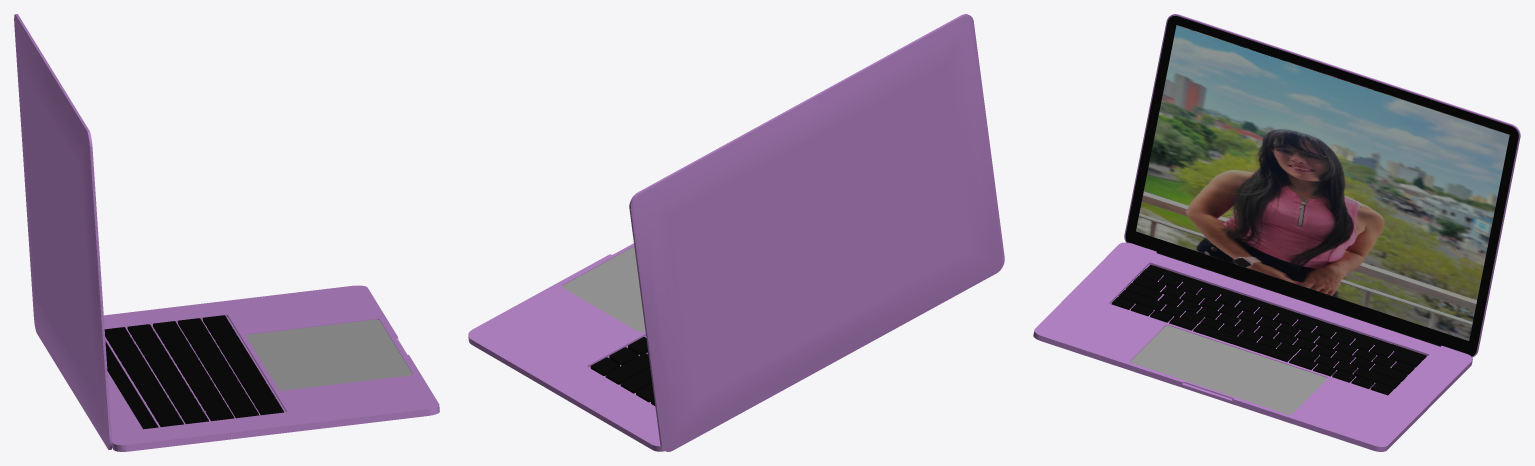
Rendered from mac-draco.glb.
3 views of the same model, side by side, from view 1: azimuth 30°, elevation 25°; view 2: azimuth 150°, elevation 25°; view 3: azimuth 270°, elevation 25° (orthographic). The views are drawn at different scales.
Visible parts, largest first — view 1: base, screen, keyboard, touchbar; view 2: screen, base, keyboard; view 3: screen, base, keyboard, touchbar.
Part boxes in pixels (x1=…): base: x1=103, y1=285, x2=439, y2=451; screen: x1=14, y1=14, x2=112, y2=449; keyboard: x1=104, y1=315, x2=283, y2=426; touchbar: x1=105, y1=341, x2=158, y2=429; screen: x1=629, y1=14, x2=1004, y2=451; base: x1=468, y1=243, x2=664, y2=451; keyboard: x1=590, y1=337, x2=655, y2=405; screen: x1=1124, y1=14, x2=1520, y2=357; base: x1=1033, y1=242, x2=1472, y2=451; keyboard: x1=1111, y1=268, x2=1421, y2=395; touchbar: x1=1147, y1=264, x2=1426, y2=360.
Bounding box in the file's own units: 8.76 × 7.42 × 11.18.
6 materials, 1 textured.
